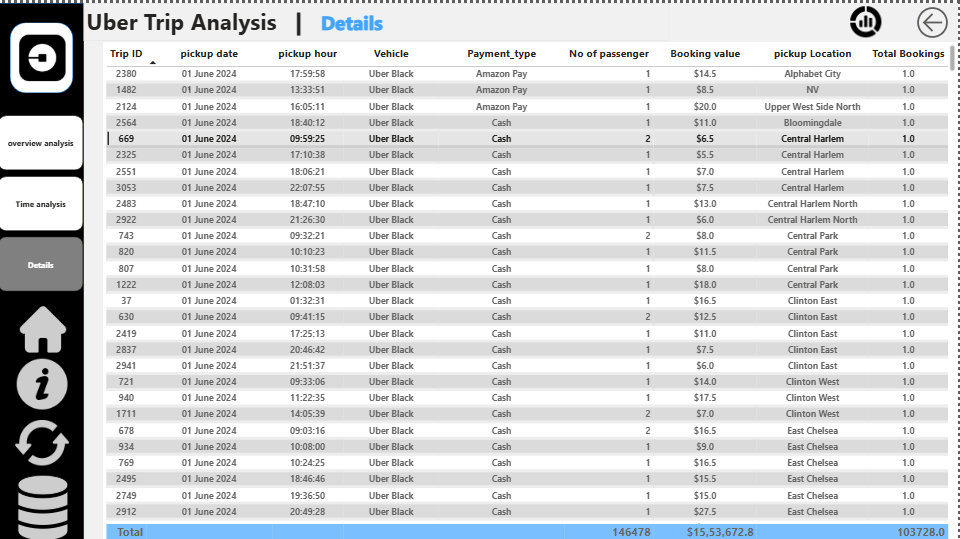

The dashboard page shown, as its layout file describes it:
{"tool":"powerbi","page":{"name":"Details","canvas":[1600,900],"ordinal":2},"visuals":[{"type":"shape","box":[0,0,143.3,900],"z":0},{"type":"textbox","box":[142.4,0,978.8,63.6],"z":1000},{"type":"actionButton","box":[1525,0,75,65],"z":2000},{"type":"tableEx","fields":{"Values":["Trip Details.Trip ID","Trip Details.pickup date","Trip Details.pickup hour(HH MM SS)","Trip Details.Vehicle","Trip Details.Payment_type","Sum(Trip Details.passenger_count)","Trip Details.Total Booking value","Location Table.Location","Trip Details.Total Bookings"]},"box":[175,65,1425,835],"z":3000},{"type":"image","box":[1405,0,82.5,62.5],"z":4000},{"type":"shape","box":[20,32.5,105,117.5],"z":5000},{"type":"image","box":[312.5,100,12.5,87.5],"z":6000},{"type":"image","box":[30,47.5,87.5,87.5],"z":6001},{"type":"pageNavigator","box":[0,187.5,142.5,295],"z":6002},{"type":"image","box":[2.5,587.5,142.5,95],"z":6003},{"type":"image","box":[25,500,100,87.5],"z":6004},{"type":"image","box":[2.5,682.5,142.5,100],"z":6005},{"type":"image","box":[2.5,782.5,145,117.5],"z":6006}]}

Visuals, with their boxes on the page's 1600x900 design canvas (x1, y1, x2, y2). These are canvas units, not pixel positions in the 960x539 screenshot, which may show the page scaled, cropped or inside an application window:
shape: box=[0, 0, 143, 900]
textbox: box=[142, 0, 1121, 64]
actionButton: box=[1525, 0, 1600, 65]
tableEx - Trip Details.Trip ID x Trip Details.pickup date: box=[175, 65, 1600, 900]
image: box=[1405, 0, 1488, 62]
shape: box=[20, 32, 125, 150]
image: box=[312, 100, 325, 188]
image: box=[30, 48, 118, 135]
pageNavigator: box=[0, 188, 142, 482]
image: box=[2, 588, 145, 682]
image: box=[25, 500, 125, 588]
image: box=[2, 682, 145, 782]
image: box=[2, 782, 148, 900]
